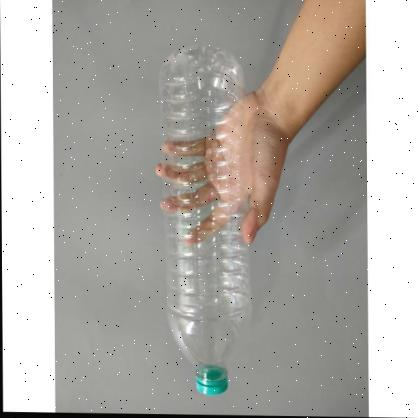bottle: (156, 45, 250, 402)
cap: (193, 371, 230, 398)
